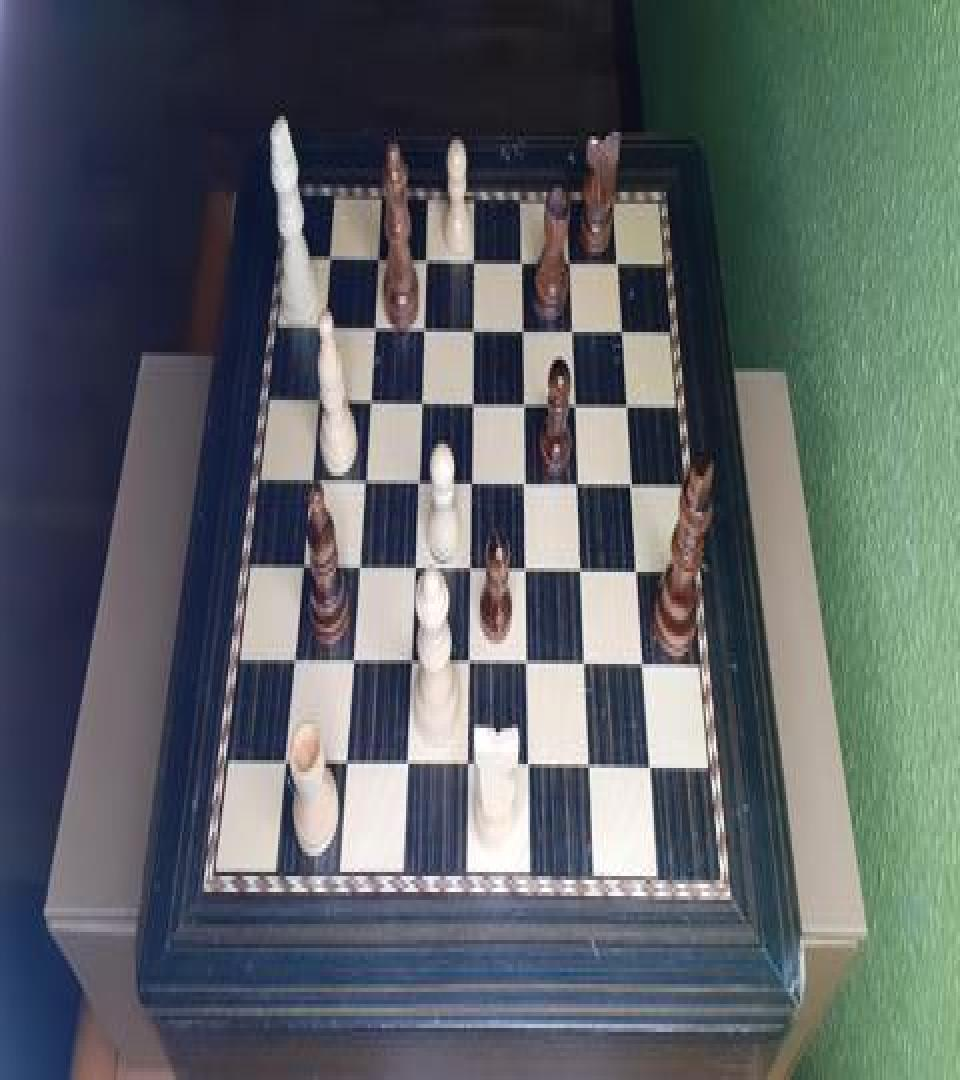xcorner: (613, 252, 627, 280), (564, 250, 578, 278), (516, 248, 530, 276), (468, 246, 482, 274), (419, 244, 433, 272), (370, 244, 384, 272), (321, 242, 335, 270), (617, 322, 631, 350), (567, 320, 581, 348), (517, 318, 531, 346), (467, 316, 481, 344), (416, 314, 430, 342), (366, 314, 380, 342), (315, 312, 329, 340), (622, 396, 636, 424), (570, 394, 584, 422), (518, 394, 532, 422), (466, 392, 480, 420), (414, 390, 428, 418), (361, 388, 375, 416), (309, 386, 323, 414), (627, 476, 641, 504), (573, 476, 587, 504), (519, 474, 533, 502), (465, 472, 479, 500), (411, 472, 425, 500), (356, 470, 370, 498), (302, 468, 316, 496), (633, 564, 647, 592), (577, 562, 591, 590), (521, 562, 535, 590), (464, 560, 478, 588), (408, 558, 422, 586), (351, 558, 365, 586), (294, 556, 308, 584), (639, 658, 653, 686), (580, 658, 594, 686), (522, 656, 536, 684), (463, 654, 477, 682), (404, 654, 418, 682), (345, 652, 359, 680), (286, 652, 300, 680), (645, 762, 659, 790), (584, 760, 598, 788), (523, 760, 537, 788), (462, 758, 476, 786), (401, 758, 415, 786), (339, 756, 353, 784), (277, 756, 291, 784)
